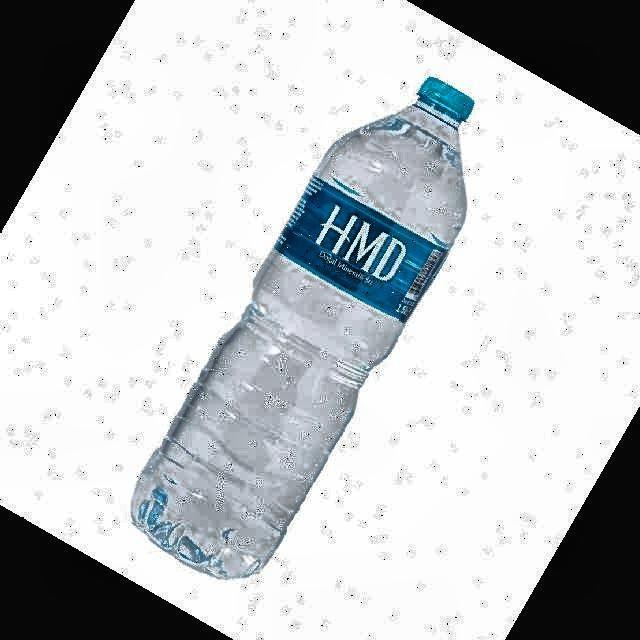plastic: (132, 78, 474, 578)
